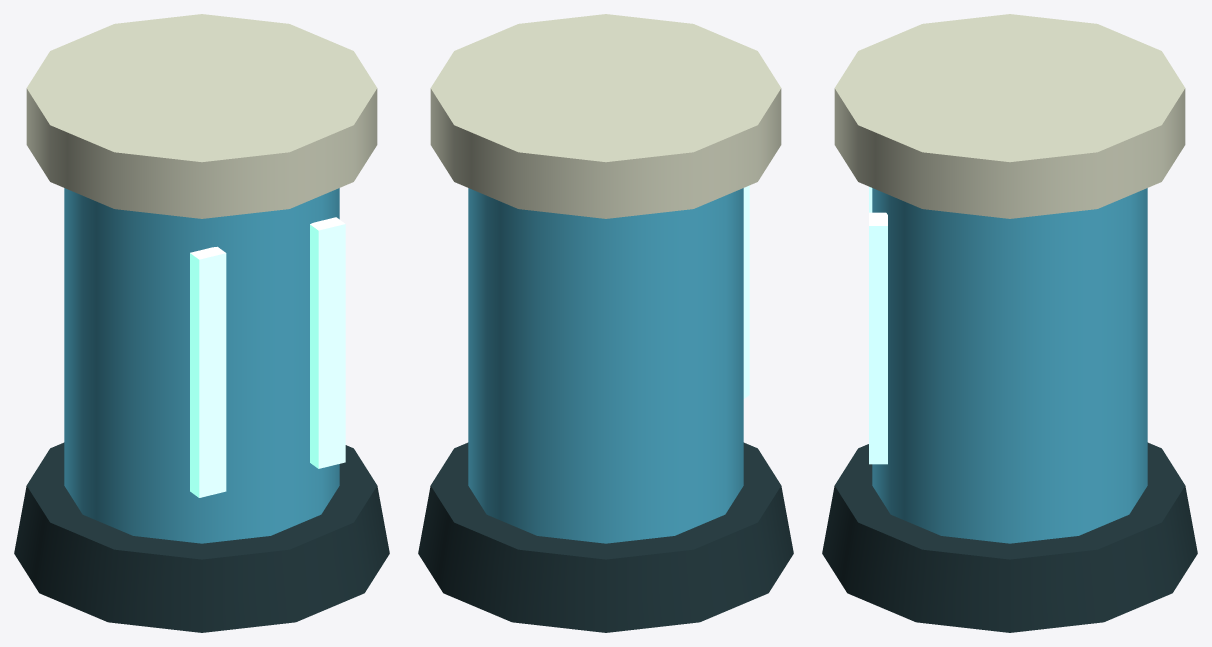
File: shield-cell.glb
3 views of the same model, side by side, from view 1: azimuth 30°, elevation 25°; view 2: azimuth 150°, elevation 25°; view 3: azimuth 270°, elevation 25° (orthographic).
Visible parts, largest first — view 1: cell, cap, base, light--1, light-1; view 2: cell, cap, base, light--1; view 3: cell, cap, base, light-1.
Boxes of the visible parts, box(x1,y1,x2,y2) form: cell: box(64, 188, 339, 543); cap: box(26, 14, 377, 218); base: box(14, 442, 389, 632); light--1: box(190, 246, 226, 497); light-1: box(310, 217, 345, 468); cell: box(468, 188, 743, 543); cap: box(430, 14, 781, 218); base: box(418, 442, 793, 632); light--1: box(743, 185, 749, 398); cell: box(872, 188, 1147, 543); cap: box(834, 14, 1185, 218); base: box(822, 442, 1197, 632); light-1: box(869, 212, 887, 464).
Bounding box in the file's own units: 0.6 × 0.82 × 0.6.
